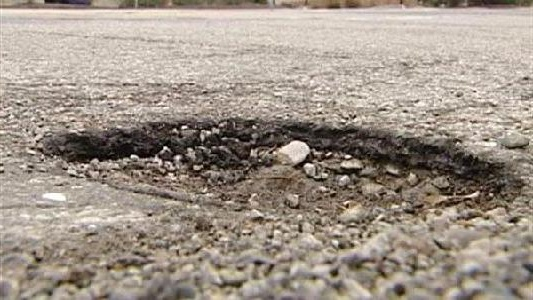pothole: (36, 116, 526, 245)
